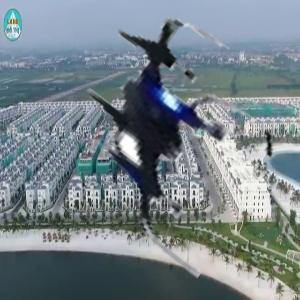drone: (56, 24, 279, 247)
